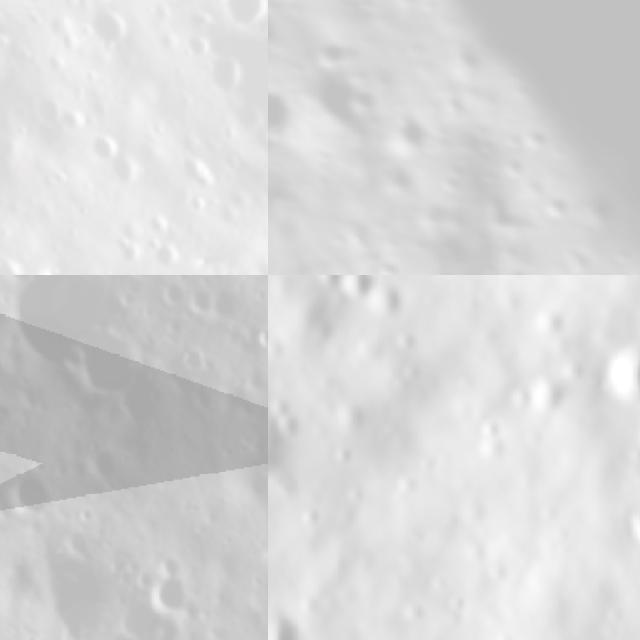crater: (176, 0, 268, 204), (289, 47, 397, 151), (8, 275, 131, 361), (31, 543, 128, 638), (183, 34, 260, 113), (583, 321, 640, 422), (268, 378, 322, 478), (76, 331, 142, 396), (18, 80, 80, 146), (268, 66, 312, 158), (68, 111, 130, 174), (376, 105, 441, 164), (0, 466, 62, 527), (96, 140, 156, 202), (166, 134, 225, 194), (473, 179, 529, 241), (0, 236, 88, 275), (140, 558, 201, 614), (502, 110, 564, 162), (77, 0, 134, 51), (205, 0, 268, 39), (268, 592, 319, 640), (306, 28, 357, 73), (373, 153, 421, 200), (327, 275, 387, 312), (523, 304, 569, 349), (164, 342, 206, 391), (341, 79, 387, 122), (530, 184, 575, 226), (469, 409, 515, 450), (438, 84, 476, 120), (623, 399, 640, 478), (152, 275, 191, 309), (268, 0, 288, 66), (184, 287, 220, 321), (363, 250, 410, 275), (496, 148, 524, 182), (0, 383, 13, 444), (0, 30, 22, 64), (77, 0, 133, 9), (129, 0, 190, 8)
